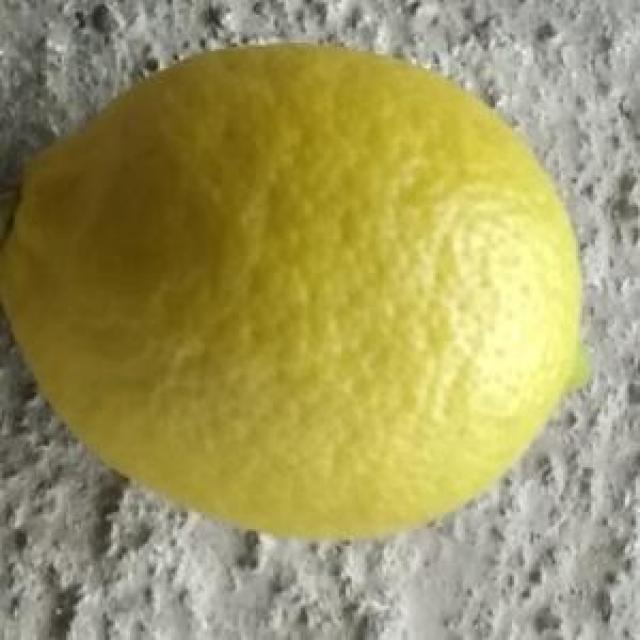lemon: (11, 42, 591, 535)
